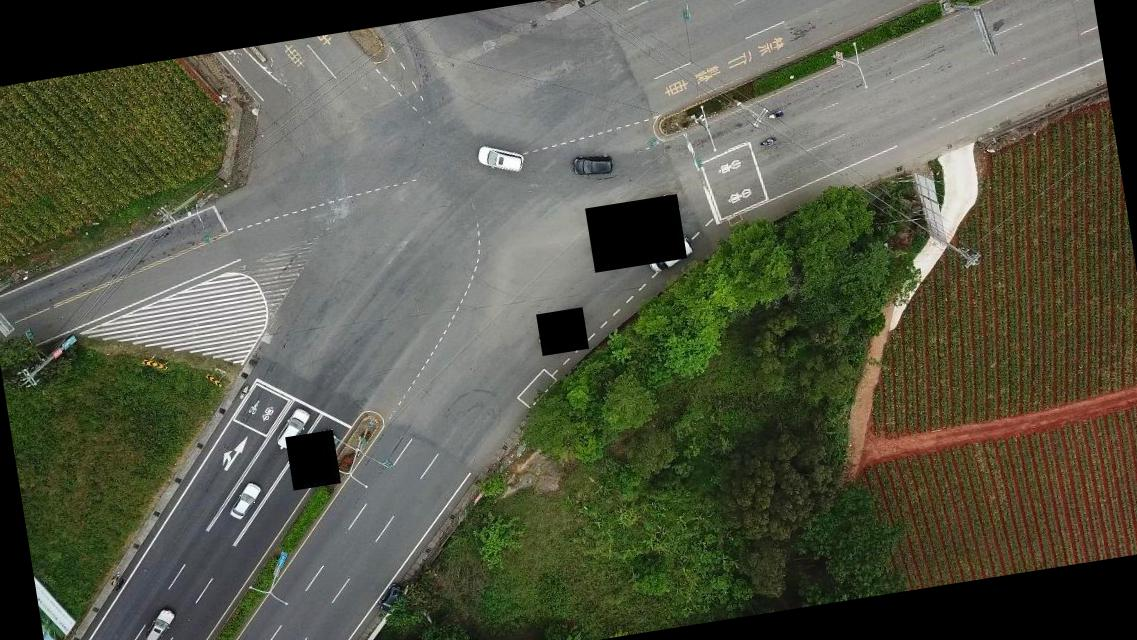vehicle: (474, 138, 528, 180), (644, 236, 698, 276), (272, 406, 314, 452), (226, 482, 262, 520), (570, 150, 614, 180), (140, 607, 180, 639), (374, 584, 404, 616)
